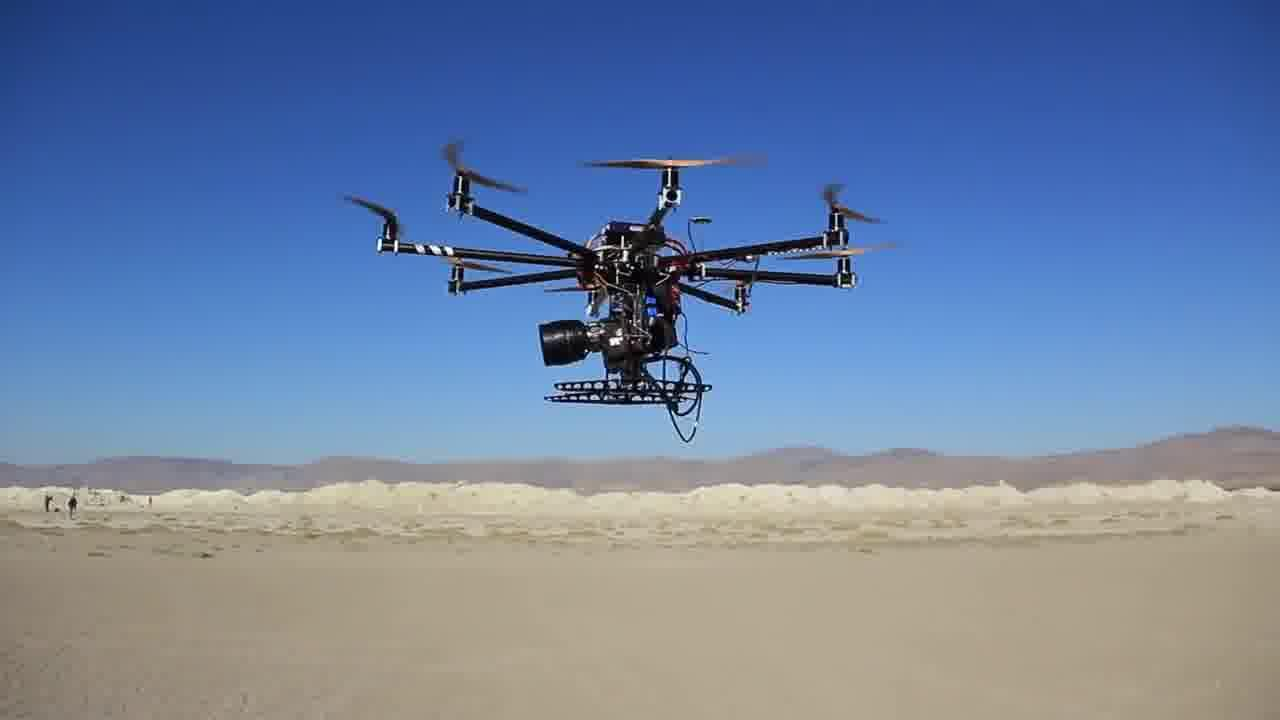drone: (339, 116, 857, 428)
